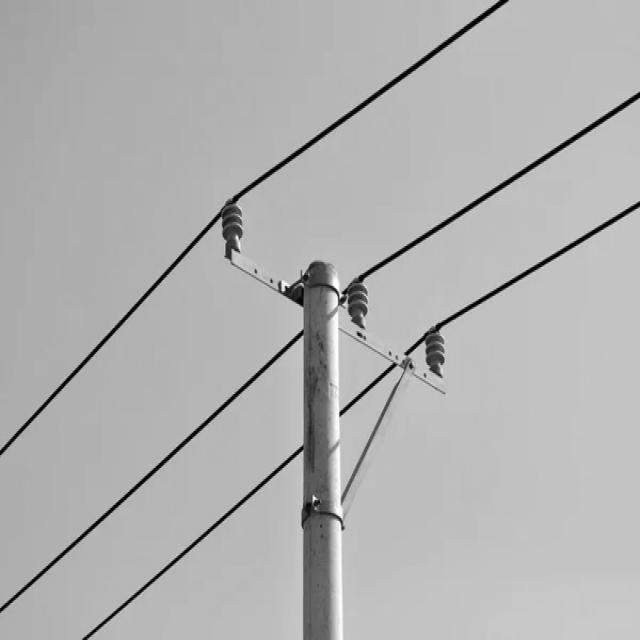Pole: (303, 260, 343, 640)
